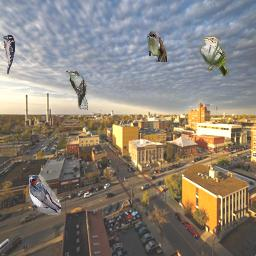Cuckoo: (66, 70, 88, 110), (147, 31, 167, 62)
Sparrow: (199, 36, 229, 76)
Swallow: (29, 175, 61, 215)
Woodpecker: (3, 34, 15, 74)
